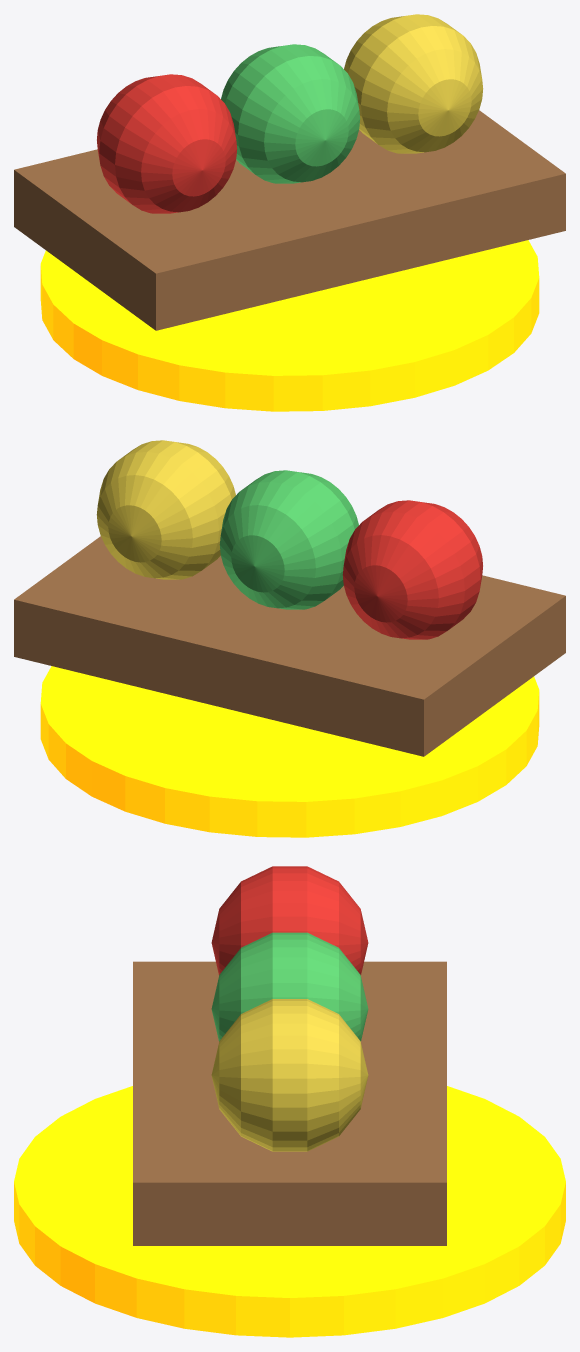
The model's file is spanish_tapas.glb.
The picture shows the model from 3 angles, top to bottom: view 1: azimuth 30°, elevation 25°; view 2: azimuth 150°, elevation 25°; view 3: azimuth 270°, elevation 25°; orthographic projection. The views are drawn at different scales.
Visible parts, largest first — view 1: 11_10_Popular_Spanish_Tapas_part_01, 11_10_Popular_Spanish_Tapas_ROOT_base, 11_10_Popular_Spanish_Tapas_part_02, 11_10_Popular_Spanish_Tapas_part_04, 11_10_Popular_Spanish_Tapas_part_03; view 2: 11_10_Popular_Spanish_Tapas_part_01, 11_10_Popular_Spanish_Tapas_ROOT_base, 11_10_Popular_Spanish_Tapas_part_02, 11_10_Popular_Spanish_Tapas_part_04, 11_10_Popular_Spanish_Tapas_part_03; view 3: 11_10_Popular_Spanish_Tapas_ROOT_base, 11_10_Popular_Spanish_Tapas_part_01, 11_10_Popular_Spanish_Tapas_part_04, 11_10_Popular_Spanish_Tapas_part_03, 11_10_Popular_Spanish_Tapas_part_02.
Boxes of the visible parts, left/top/right/bottom form: 11_10_Popular_Spanish_Tapas_part_01: left=14, top=110, right=565, bottom=330; 11_10_Popular_Spanish_Tapas_ROOT_base: left=40, top=240, right=539, bottom=411; 11_10_Popular_Spanish_Tapas_part_02: left=97, top=74, right=237, bottom=213; 11_10_Popular_Spanish_Tapas_part_04: left=344, top=14, right=483, bottom=153; 11_10_Popular_Spanish_Tapas_part_03: left=221, top=44, right=360, bottom=183; 11_10_Popular_Spanish_Tapas_part_01: left=14, top=536, right=565, bottom=756; 11_10_Popular_Spanish_Tapas_ROOT_base: left=40, top=666, right=539, bottom=837; 11_10_Popular_Spanish_Tapas_part_02: left=342, top=500, right=482, bottom=639; 11_10_Popular_Spanish_Tapas_part_04: left=96, top=440, right=235, bottom=579; 11_10_Popular_Spanish_Tapas_part_03: left=219, top=470, right=358, bottom=609; 11_10_Popular_Spanish_Tapas_ROOT_base: left=14, top=1086, right=565, bottom=1337; 11_10_Popular_Spanish_Tapas_part_01: left=133, top=961, right=446, bottom=1245; 11_10_Popular_Spanish_Tapas_part_04: left=211, top=999, right=368, bottom=1151; 11_10_Popular_Spanish_Tapas_part_03: left=211, top=932, right=368, bottom=1041; 11_10_Popular_Spanish_Tapas_part_02: left=211, top=866, right=368, bottom=975.
Bounding box in the file's own units: 0.76 × 0.4273 × 0.76.
